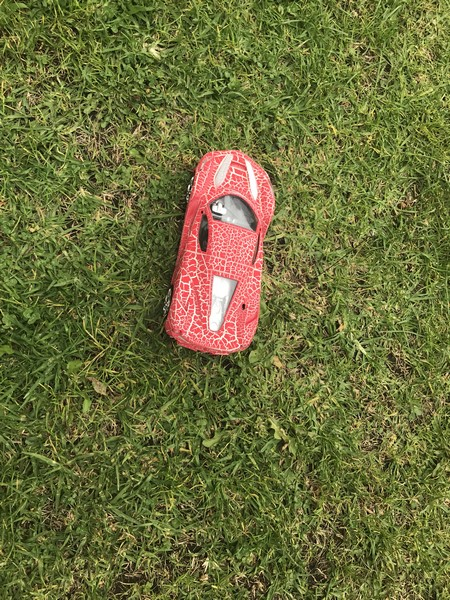RC: (160, 151, 276, 357)
